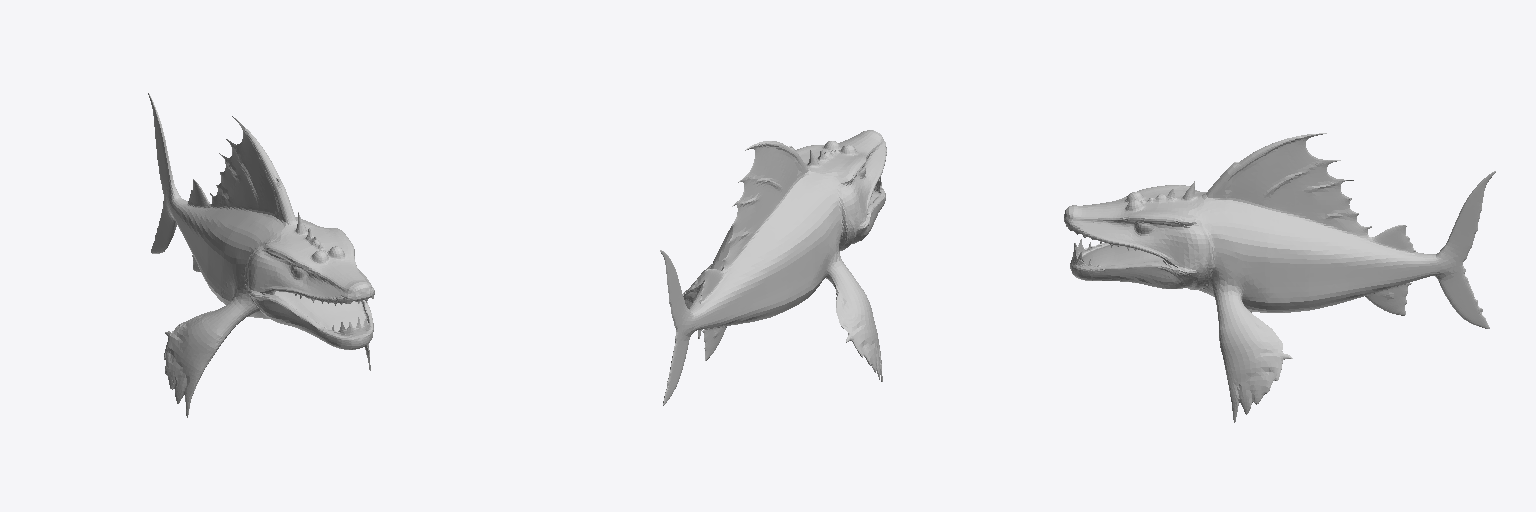
File: dracuda.obj
3 renders of one model, left to right at view 1: azimuth 30°, elevation 25°; view 2: azimuth 150°, elevation 25°; view 3: azimuth 270°, elevation 25°, orthographic.
Bounding box in the file's own units: 0.9781 × 1.18 × 1.89.